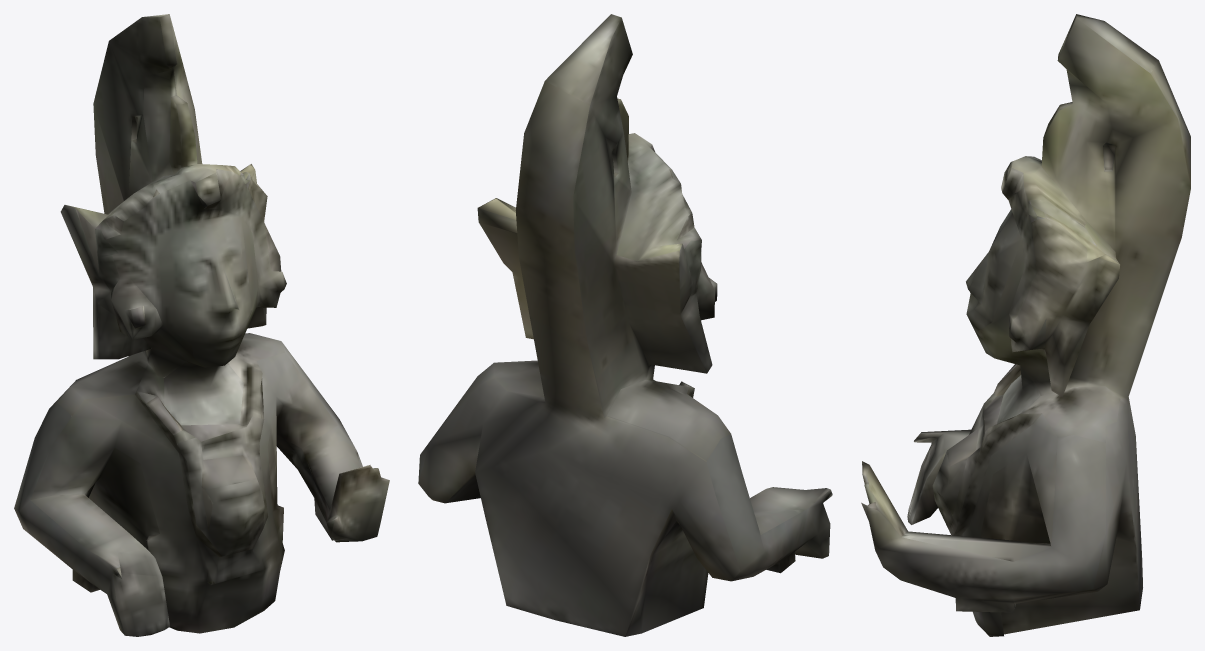
File: maize-god.lod1.glb
3 renders of one model, left to right at view 1: azimuth 30°, elevation 25°; view 2: azimuth 150°, elevation 25°; view 3: azimuth 270°, elevation 25°, orthographic. The views are drawn at different scales.
Visible parts, largest first — view 1: Object_2; view 2: Object_2; view 3: Object_2.
Part boxes in pixels (<box>): Object_2: <box>14,14,389,636</box>; Object_2: <box>418,14,832,636</box>; Object_2: <box>861,14,1190,636</box>.
Size of the model in its own units: 1.15 by 1.99 by 1.
Materials: 1 (1 with a texture image).
